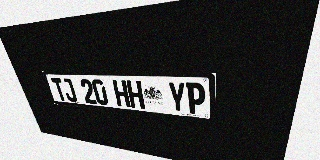0: (91, 79, 109, 105)
2: (79, 79, 97, 104)
H: (126, 80, 145, 109), (112, 80, 131, 107)
J: (60, 78, 78, 102)
P: (186, 82, 205, 115)
T: (51, 78, 68, 101)
Y: (167, 82, 187, 113)
